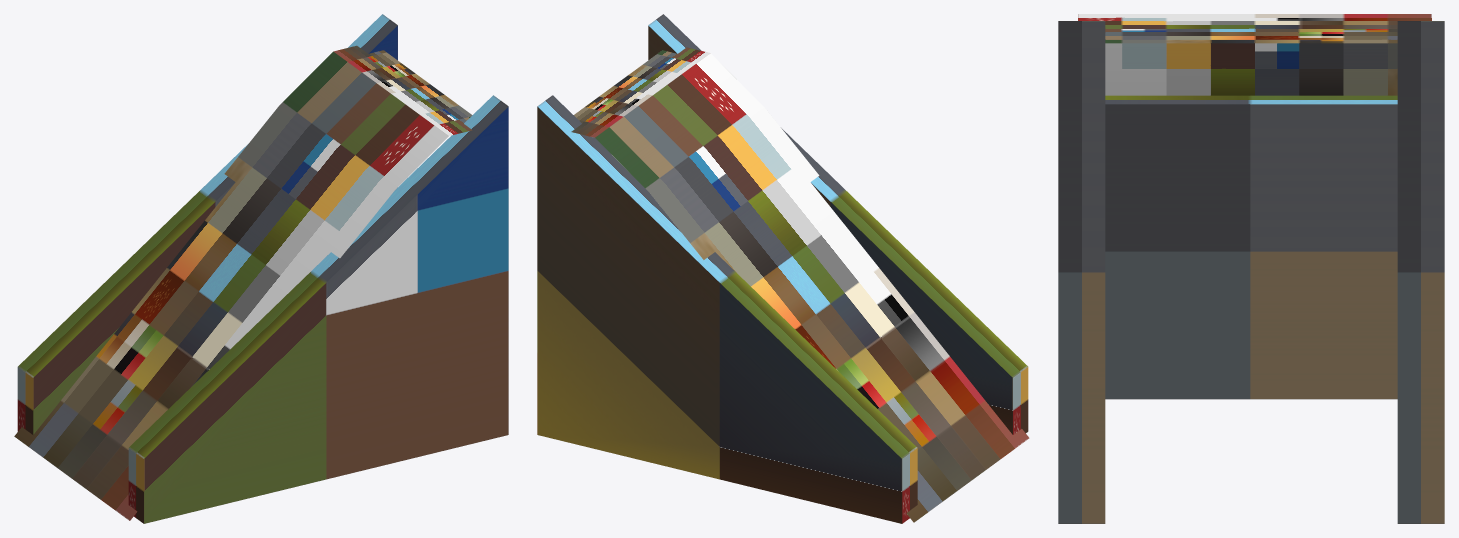
Rendered from Wood_Stairs_2_Phys.fbx.
3 views of the same model, side by side, from view 1: azimuth 30°, elevation 25°; view 2: azimuth 150°, elevation 25°; view 3: azimuth 270°, elevation 25° (orthographic). The views are drawn at different scales.
Parts seen in each view (by area): view 1: polySurface10637; view 2: polySurface10637; view 3: polySurface10637.
Boxes of the visible parts, bbox=[...] form: polySurface10637: bbox=[14, 14, 508, 523]; polySurface10637: bbox=[537, 14, 1029, 523]; polySurface10637: bbox=[1058, 14, 1444, 523].
Bounding box in the file's own units: 388 × 327 × 228.
